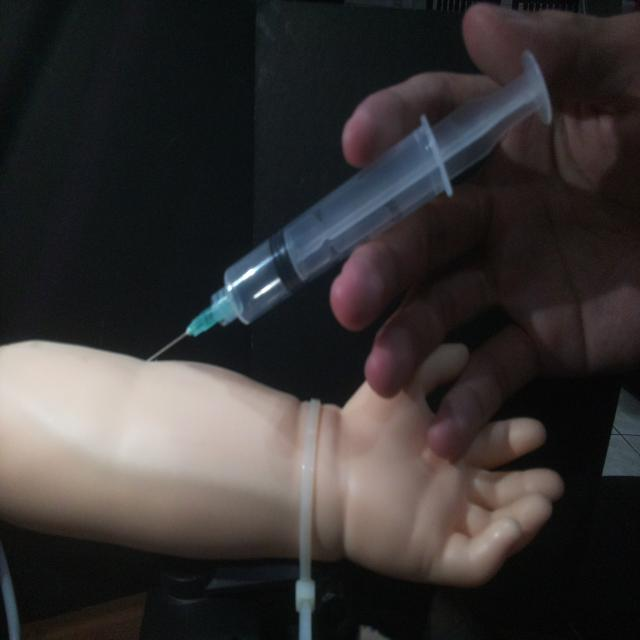25deg: (142, 46, 556, 364)
